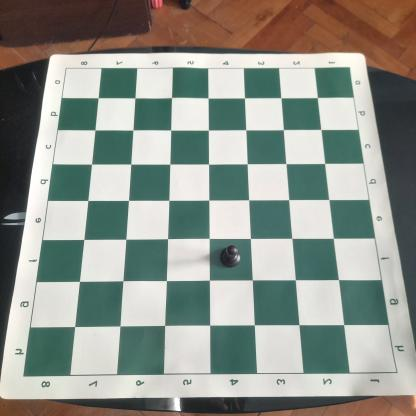black-pawn: (218, 244, 242, 268)
